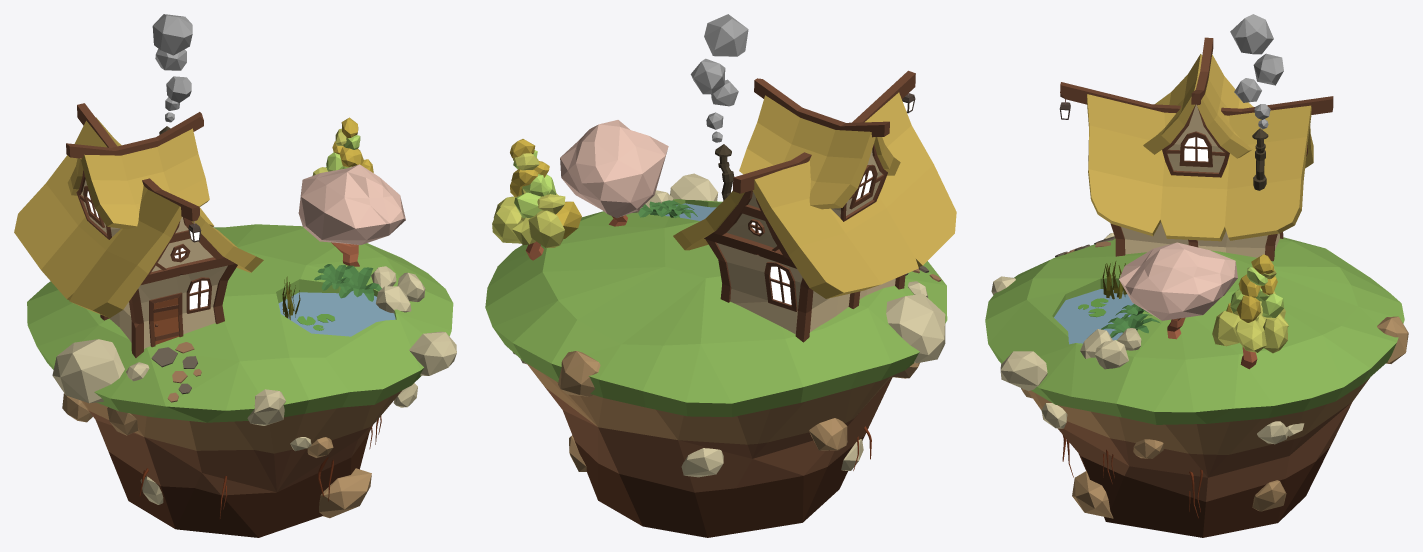
3 views of the same model, side by side, from view 1: azimuth 30°, elevation 25°; view 2: azimuth 150°, elevation 25°; view 3: azimuth 270°, elevation 25° (orthographic). The views are drawn at different scales.
Visible parts, largest first — view 1: Cylinder.009, Cylinder, Cube.001, Cube.003, Icosphere.005, Cube, Icosphere.029, Cylinder.018, Icosphere.035, Cube.005, Icosphere.036, Icosphere.044 (+13 smaller); view 2: Cylinder.009, Cylinder, Cube.001, Cube.003, Icosphere.005, Cube, Icosphere.029, Cube.004, Cube.005, Icosphere.044, Icosphere.027, Icosphere.021 (+13 smaller); view 3: Cylinder.009, Cylinder, Cube.001, Icosphere.005, Cube.003, Cylinder.018, Cube, Cube.004, Cube.002, Icosphere.036, Icosphere.044, Icosphere.035 (+14 smaller).
Boxes of the visible parts, bbox=[...] form: Cylinder.009: bbox=[27, 224, 453, 422]; Cylinder: bbox=[81, 390, 402, 537]; Cube.001: bbox=[14, 117, 263, 317]; Cube.003: bbox=[67, 128, 209, 229]; Icosphere.005: bbox=[298, 164, 405, 244]; Cube: bbox=[109, 217, 227, 348]; Icosphere.029: bbox=[52, 339, 124, 403]; Cylinder.018: bbox=[278, 290, 395, 336]; Icosphere.035: bbox=[319, 468, 371, 518]; Cube.005: bbox=[66, 112, 203, 158]; Icosphere.036: bbox=[409, 331, 456, 375]; Icosphere.044: bbox=[152, 14, 192, 55]; Cylinder.009: bbox=[485, 199, 947, 417]; Cylinder: bbox=[527, 364, 892, 537]; Cube.001: bbox=[673, 92, 956, 298]; Cube.003: bbox=[739, 95, 900, 209]; Icosphere.005: bbox=[560, 120, 668, 218]; Cube: bbox=[717, 192, 895, 334]; Icosphere.029: bbox=[886, 294, 945, 363]; Cube.004: bbox=[733, 70, 915, 193]; Cube.005: bbox=[754, 78, 889, 137]; Icosphere.044: bbox=[704, 14, 748, 56]; Icosphere.027: bbox=[558, 351, 600, 396]; Icosphere.021: bbox=[528, 210, 564, 247]; Cylinder.009: bbox=[985, 237, 1404, 424]; Cylinder: bbox=[1028, 377, 1370, 537]; Cube.001: bbox=[1087, 94, 1313, 241]; Icosphere.005: bbox=[1119, 242, 1237, 320]; Cube.003: bbox=[1143, 54, 1253, 158]; Cylinder.018: bbox=[1054, 289, 1137, 344]; Cube: bbox=[1121, 222, 1279, 257]; Cube.004: bbox=[1060, 82, 1333, 115]; Cube.002: bbox=[1167, 104, 1224, 172]; Icosphere.036: bbox=[1000, 351, 1047, 390]; Icosphere.044: bbox=[1230, 14, 1273, 54]; Icosphere.035: bbox=[1072, 471, 1113, 518].
Size of the model in its own units: 6.83 by 7.99 by 6.66.
